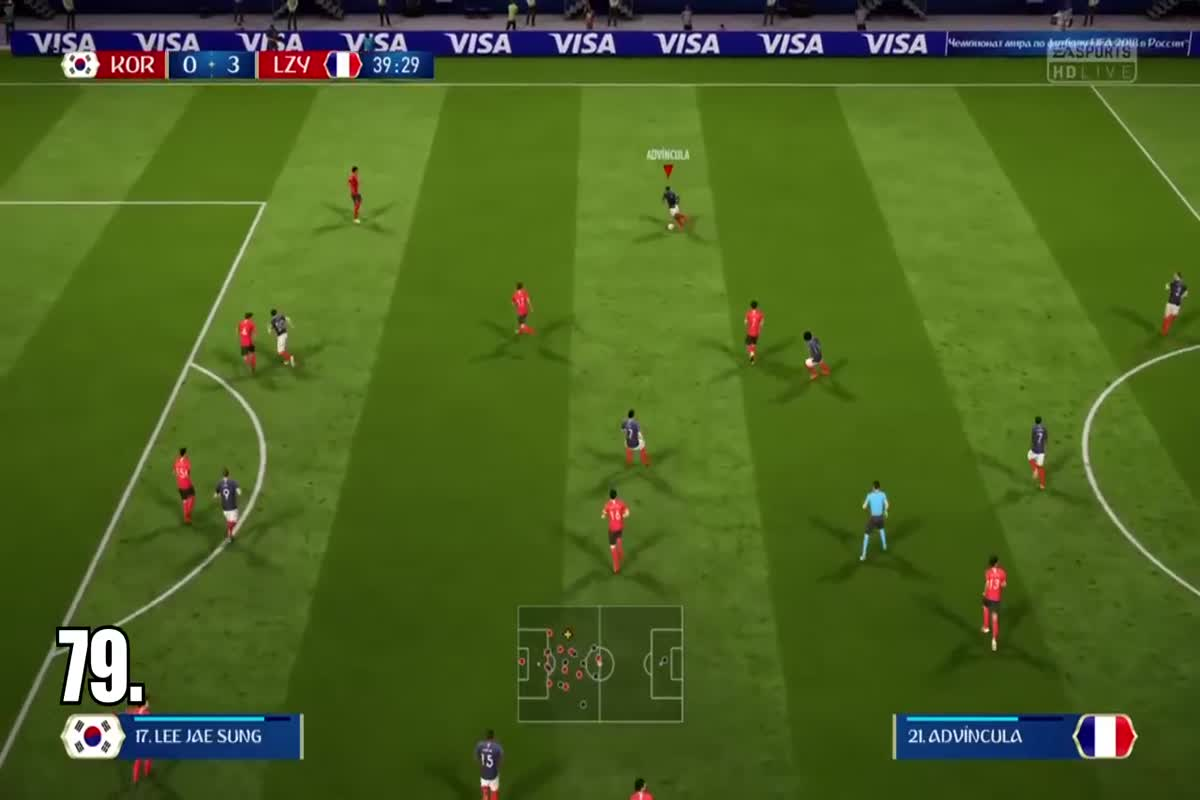ball: (661, 213, 680, 238)
